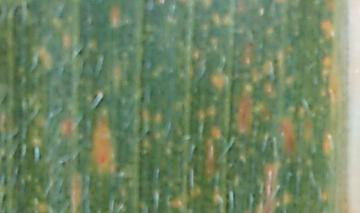tarspot: (1, 192, 7, 207), (2, 176, 8, 186), (144, 129, 151, 136), (77, 49, 83, 56), (273, 58, 279, 65), (251, 192, 257, 199), (60, 160, 66, 166)
